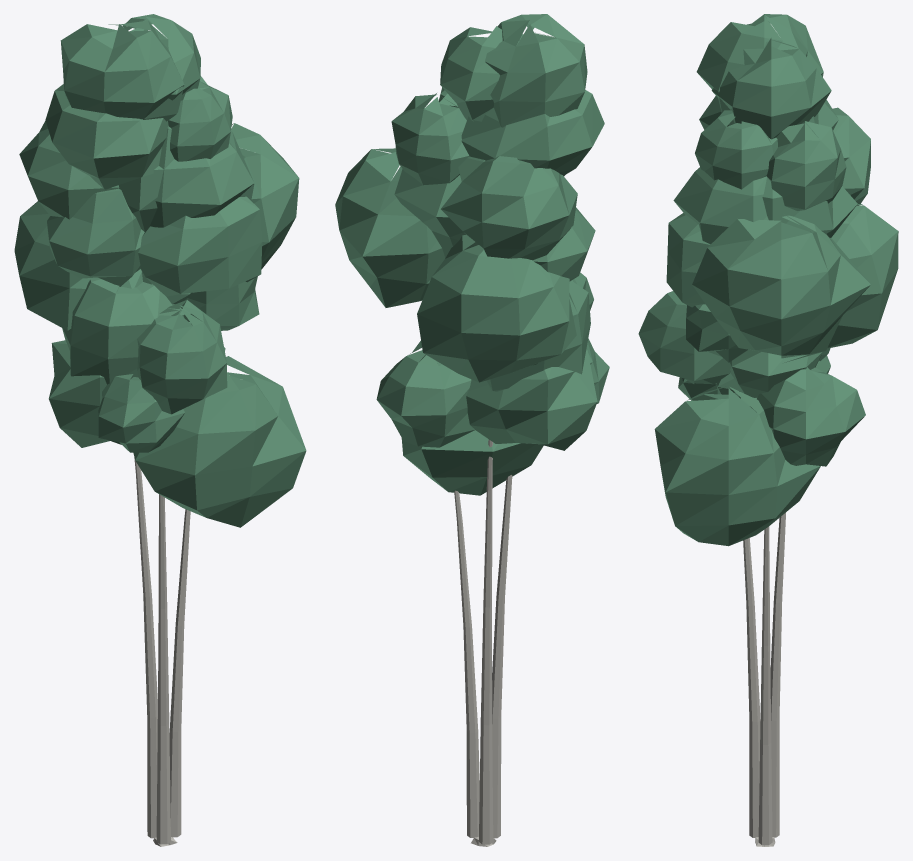
File: temperate-forest-ecology-holly-mature-128f3ca9__3808.glb
3 renders of one model, left to right at view 1: azimuth 30°, elevation 25°; view 2: azimuth 150°, elevation 25°; view 3: azimuth 270°, elevation 25°, orthographic. The views are drawn at different scales.
Parts seen in each view (by area): view 1: holly-mature; view 2: holly-mature; view 3: holly-mature.
Part boxes in pixels (bbox=[...]): holly-mature: bbox=[14, 14, 306, 846]; holly-mature: bbox=[335, 14, 609, 846]; holly-mature: bbox=[638, 14, 898, 846].
Size of the model in its own units: 3.68 by 11.47 by 3.35.
